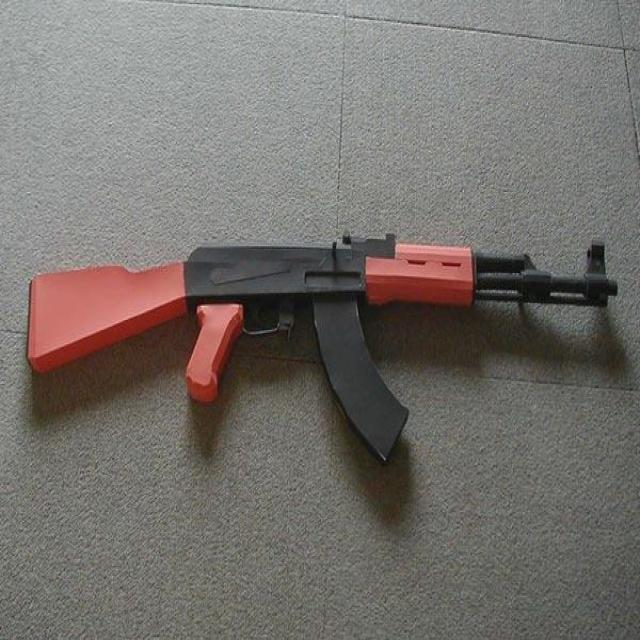Gun: (28, 184, 611, 431)
